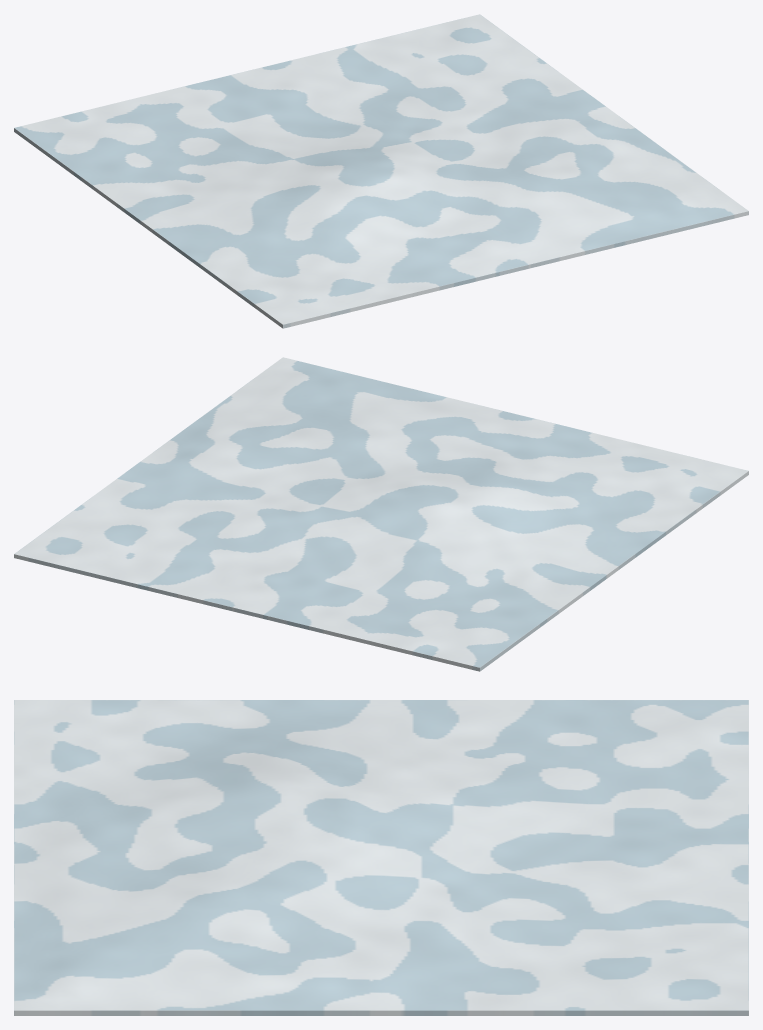
File: Snow_Flat_08.obj
The picture shows the model from 3 angles, top to bottom: view 1: azimuth 30°, elevation 25°; view 2: azimuth 150°, elevation 25°; view 3: azimuth 270°, elevation 25°; orthographic projection. The views are drawn at different scales.
Bounding box in the file's own units: 10 × 0.3875 × 10.
Materials: 1 (1 with a texture image).
